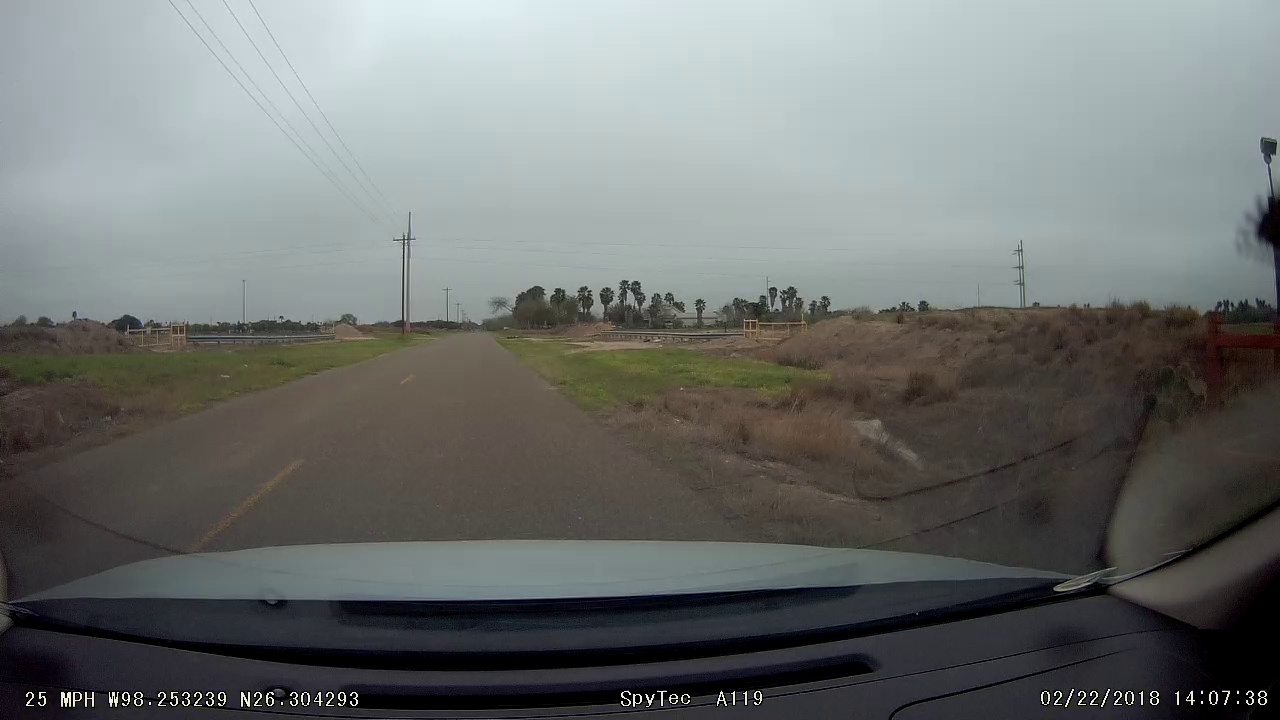blurredLine: (395, 367, 424, 394)
